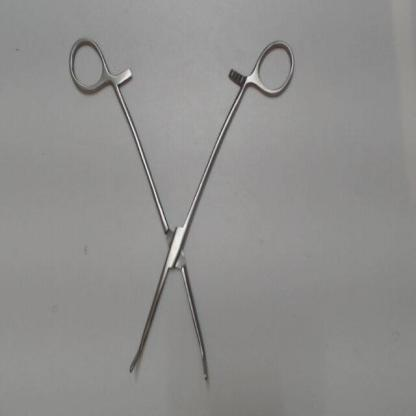Lahey Forceps: (64, 37, 301, 388)
